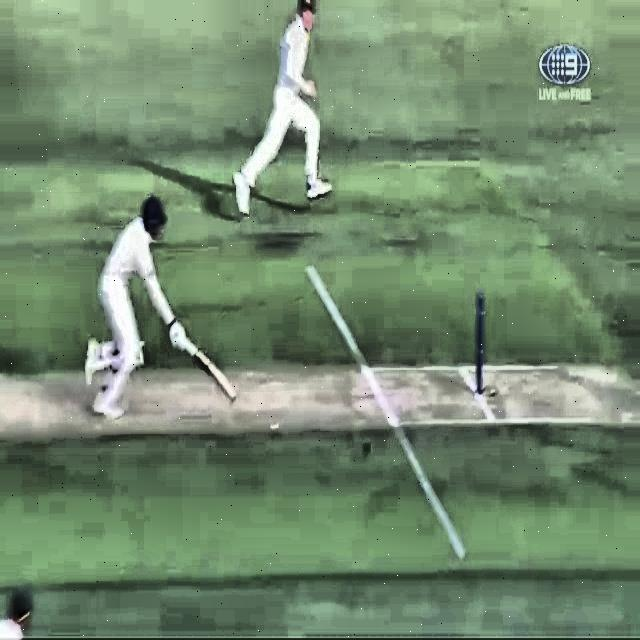Bat: (166, 325, 241, 405)
Pitch_Line: (304, 262, 467, 561)
Undis_Wicket: (470, 290, 490, 403)
